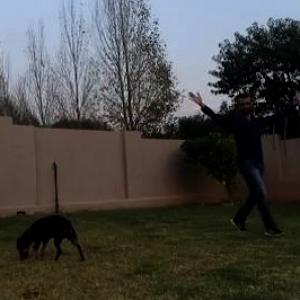takeoff: (175, 88, 299, 239)
